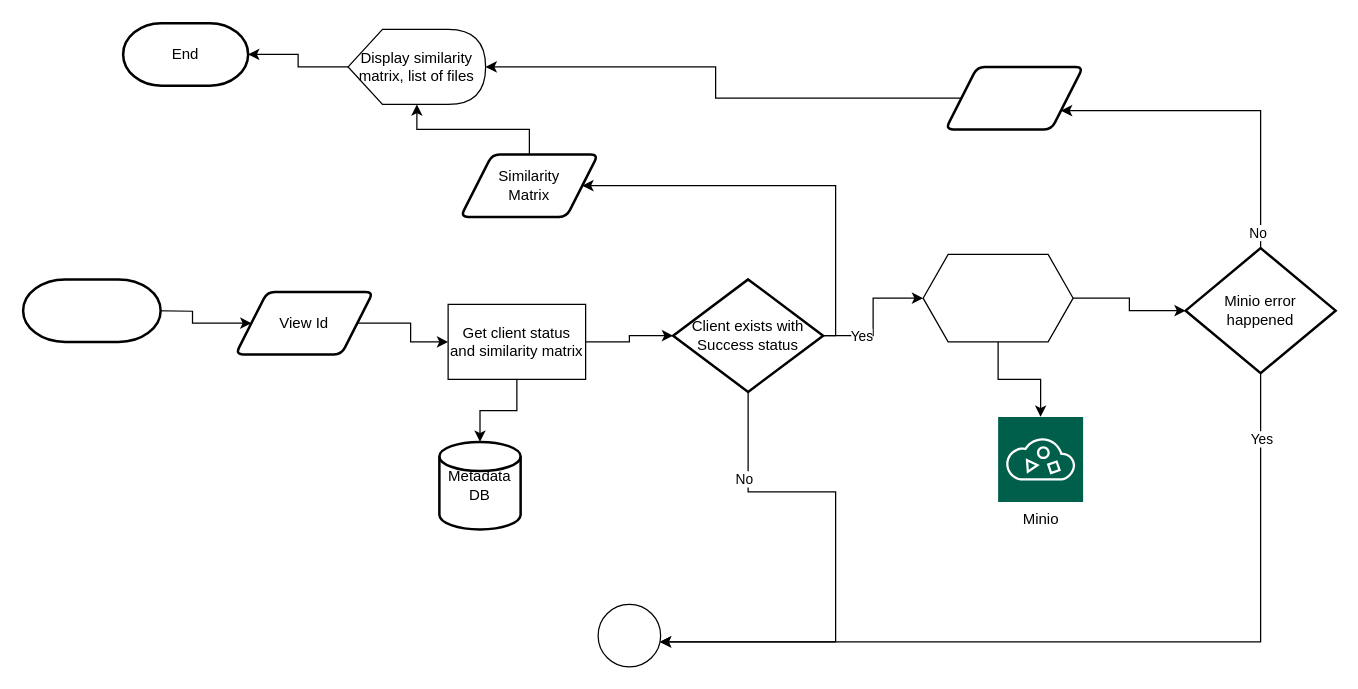
Some shapes in this 1358 by 689 pixel diagram are drawn without their labels. The shapes that lost their labels are listed below. From the top down, each one's centre as x and y in pixels, then its label:
[1014,97]: List of uploaded files
[91,310]: User navigated to the view page
[997,297]: Get list of id-related files from Minio
[629,635]: Report Error
